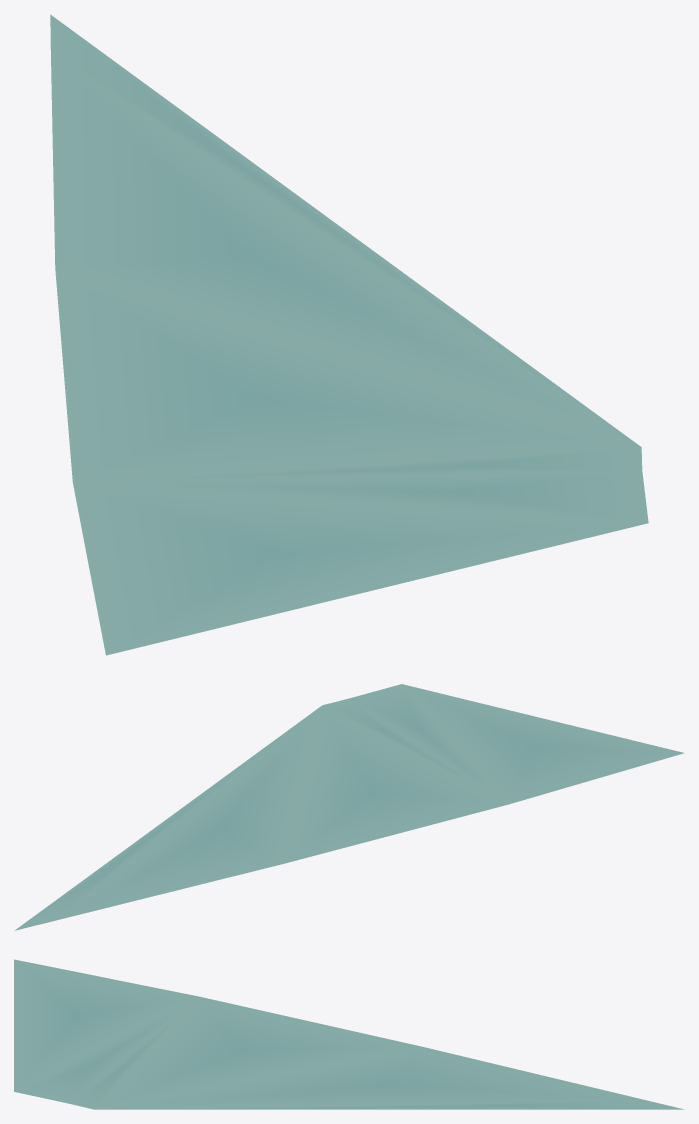
The model's file is water-15-11.glb.
3 views of the same model, one above another, from view 1: azimuth 30°, elevation 25°; view 2: azimuth 150°, elevation 25°; view 3: azimuth 270°, elevation 25° (orthographic). The views are drawn at different scales.
Size of the model in its own units: 5.93 by 0 by 11.2.
